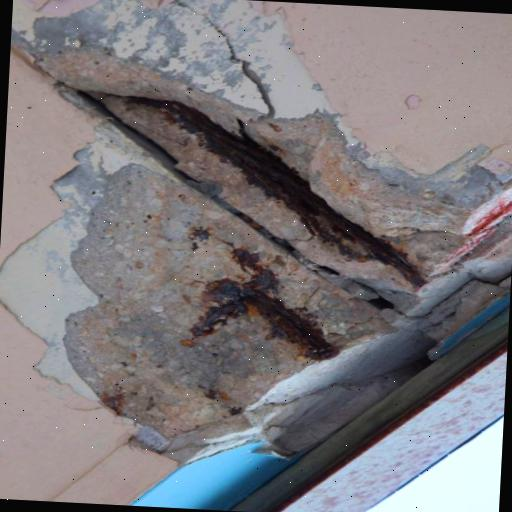spalling: (43, 53, 500, 438)
